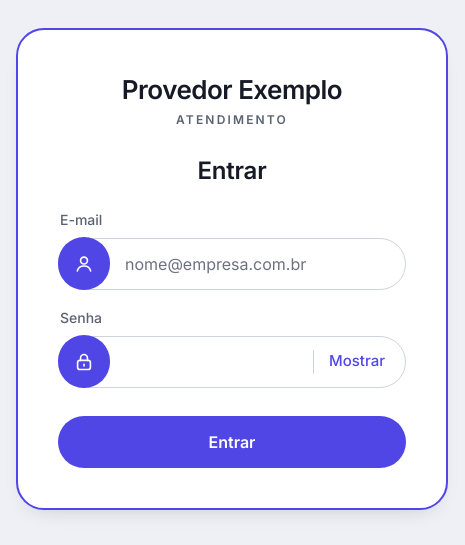
Test: LoginPage: validação própria, ao lado do campo › e-mail vazio: aviso junto do campo, foco no e-mail e nenhum pedido
This screenshot has width=465, height=545.
In the password field labelled "Senha": (219, 362) top-left (125, 337), bottom-right (313, 387), type "senha-ficticia"
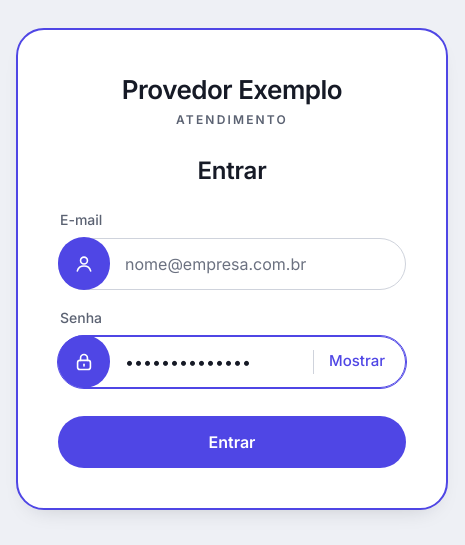
Click the button "Entrar": (232, 442) top-left (58, 416), bottom-right (406, 468)
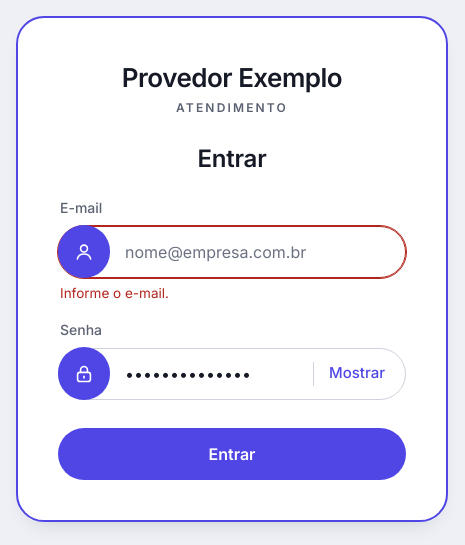
Check: the element showing "E-mail Informe o e-mail." is shown, box top-left (58, 198), bottom-right (406, 302)
